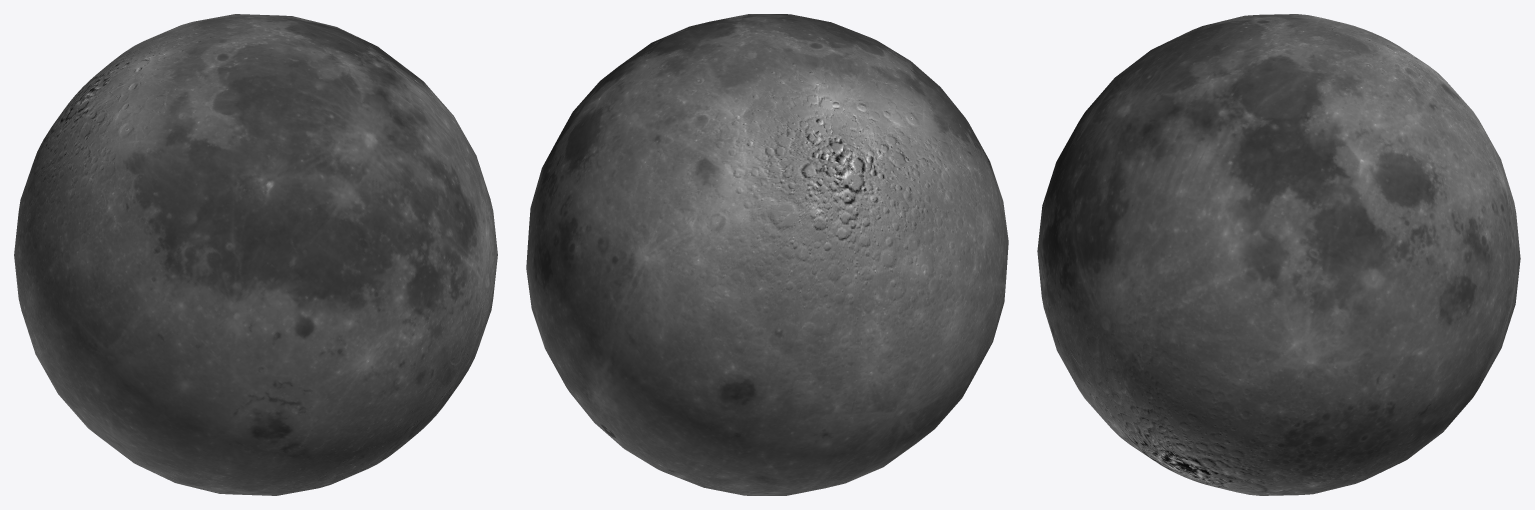
File: moon2.glb
The picture shows the model from 3 angles, left to right: view 1: azimuth 30°, elevation 25°; view 2: azimuth 150°, elevation 25°; view 3: azimuth 270°, elevation 25°; orthographic projection.
Visible parts, largest first — view 1: Moon; view 2: Moon; view 3: Moon.
Part boxes in pixels (box(x1,y1,x2,y2)): Moon: box(14, 14, 497, 495); Moon: box(526, 14, 1008, 495); Moon: box(1037, 14, 1520, 495).
Bounding box in the file's own units: 7.06 × 7.07 × 7.08.
Materials: 1 (1 with a texture image).
